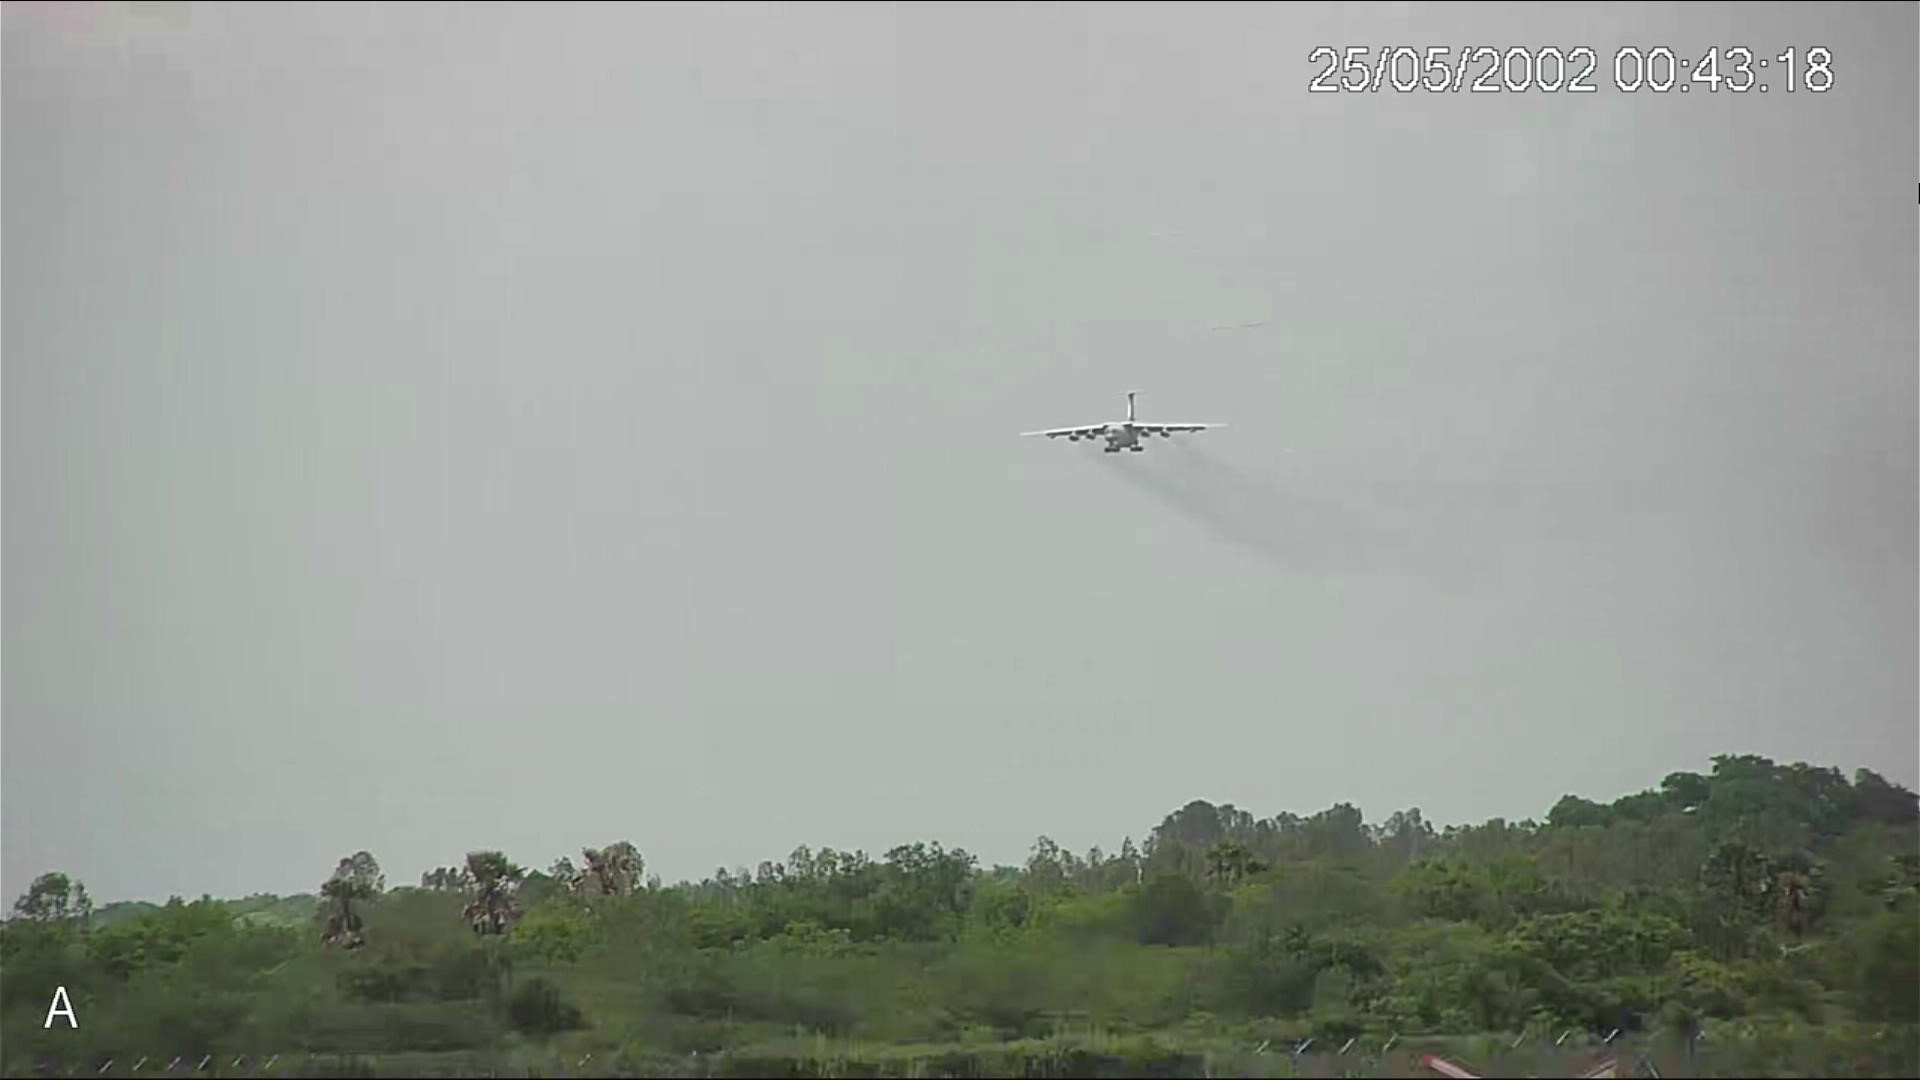SU_30: (1018, 389, 1234, 458)
